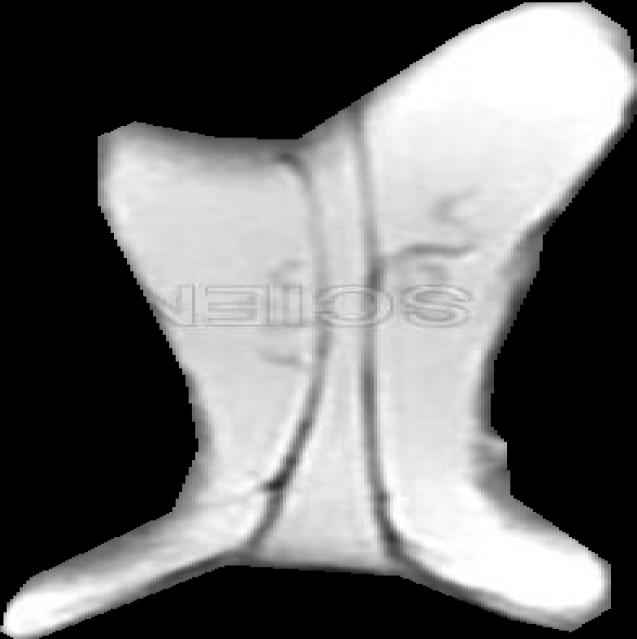tumor_moderate_chance: (0, 1, 637, 639)
